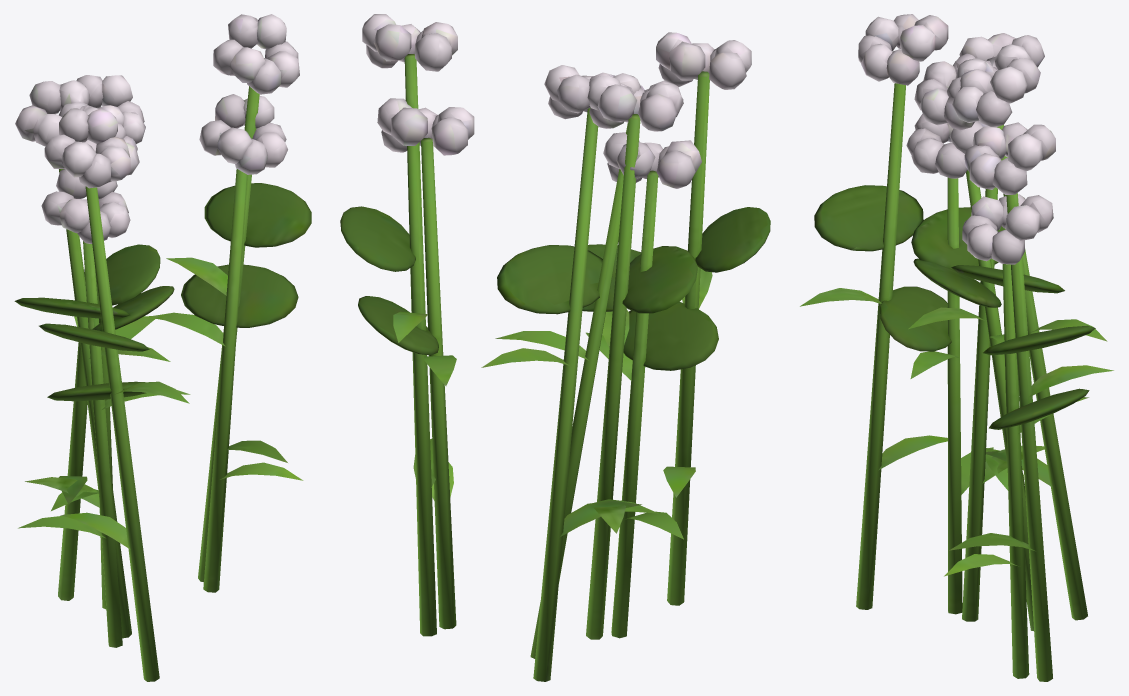
The model's file is crop_buckwheat.glb.
3 renders of one model, left to right at view 1: azimuth 30°, elevation 25°; view 2: azimuth 150°, elevation 25°; view 3: azimuth 270°, elevation 25°, orthographic. The views are drawn at different scales.
Visible parts, largest first — view 1: crop_buckwheat, fruit; view 2: crop_buckwheat, fruit; view 3: crop_buckwheat, fruit.
Part boxes in pixels (bbox=[...]): crop_buckwheat: bbox=[14, 86, 311, 681]; fruit: bbox=[15, 14, 299, 243]; crop_buckwheat: bbox=[340, 54, 770, 681]; fruit: bbox=[362, 14, 751, 188]; crop_buckwheat: bbox=[800, 83, 1113, 681]; fruit: bbox=[858, 14, 1055, 264].
Bounding box in the file's own units: 0.1854 × 0.3069 × 0.1537.
Materials: 1 (1 with a texture image).
